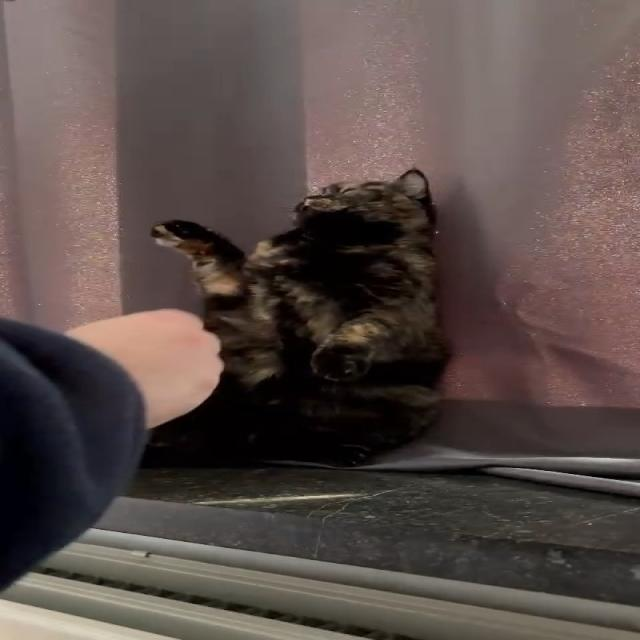authorized: (144, 167, 453, 468)
